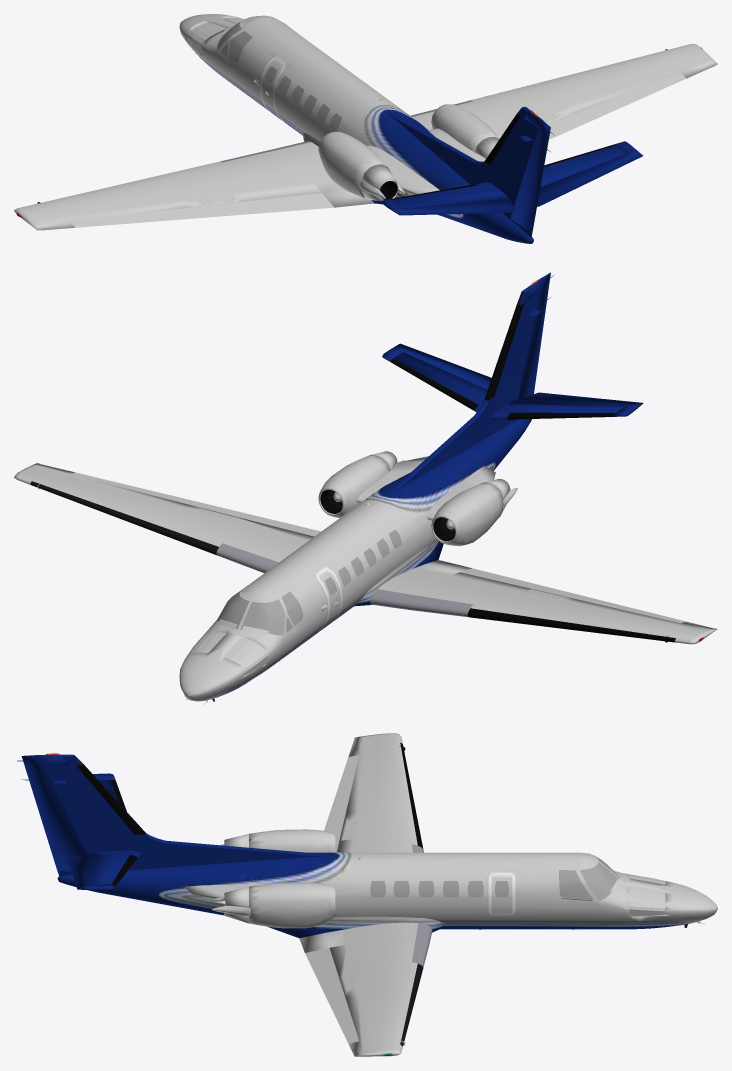
The model's file is citation.glb.
3 renders of one model, top to bottom at view 1: azimuth 30°, elevation 25°; view 2: azimuth 150°, elevation 25°; view 3: azimuth 270°, elevation 25°, orthographic. The views are drawn at different scales.
Parts seen in each view (by area): view 1: Aft_BaggageDoor, Door_glass, Door_handle; view 2: Aft_BaggageDoor, Door_glass, Door_handle; view 3: Aft_BaggageDoor, Door_glass, Door_handle.
Boxes of the visible parts, <box> form: Aft_BaggageDoor: <box>14,14,717,243</box>; Door_glass: <box>217,22,341,131</box>; Door_handle: <box>265,92,499,201</box>; Aft_BaggageDoor: <box>14,272,717,701</box>; Door_glass: <box>217,529,401,635</box>; Door_handle: <box>186,451,517,704</box>; Aft_BaggageDoor: <box>17,733,717,1056</box>; Door_glass: <box>370,856,620,901</box>; Door_handle: <box>212,832,705,923</box>.
Size of the model in its own units: 15.62 by 4.06 by 14.48.
4 materials, 2 textured.
